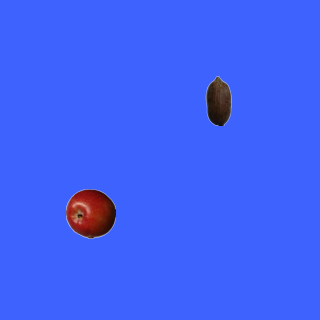Apple Braeburn: (65, 188, 115, 238)
Nut Pecan: (193, 75, 243, 125)
